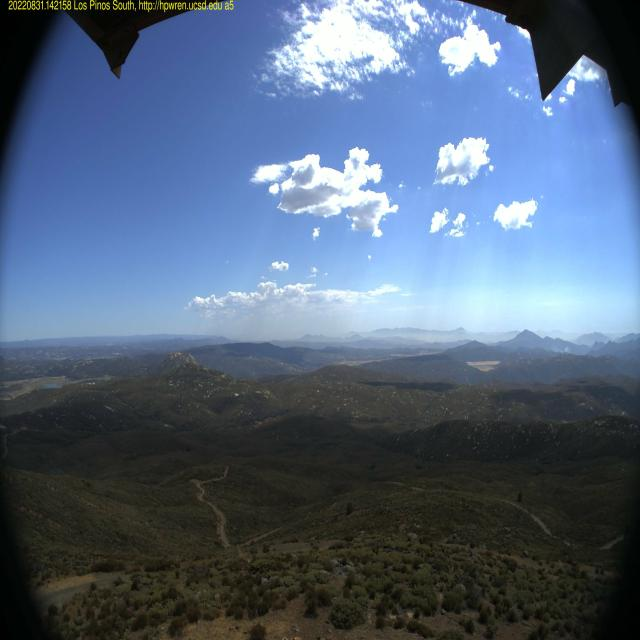smoke: (548, 340, 574, 356)
